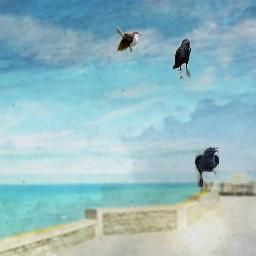Crow: (195, 147, 219, 187), (173, 39, 191, 79)
Cuckoo: (117, 17, 141, 52)
